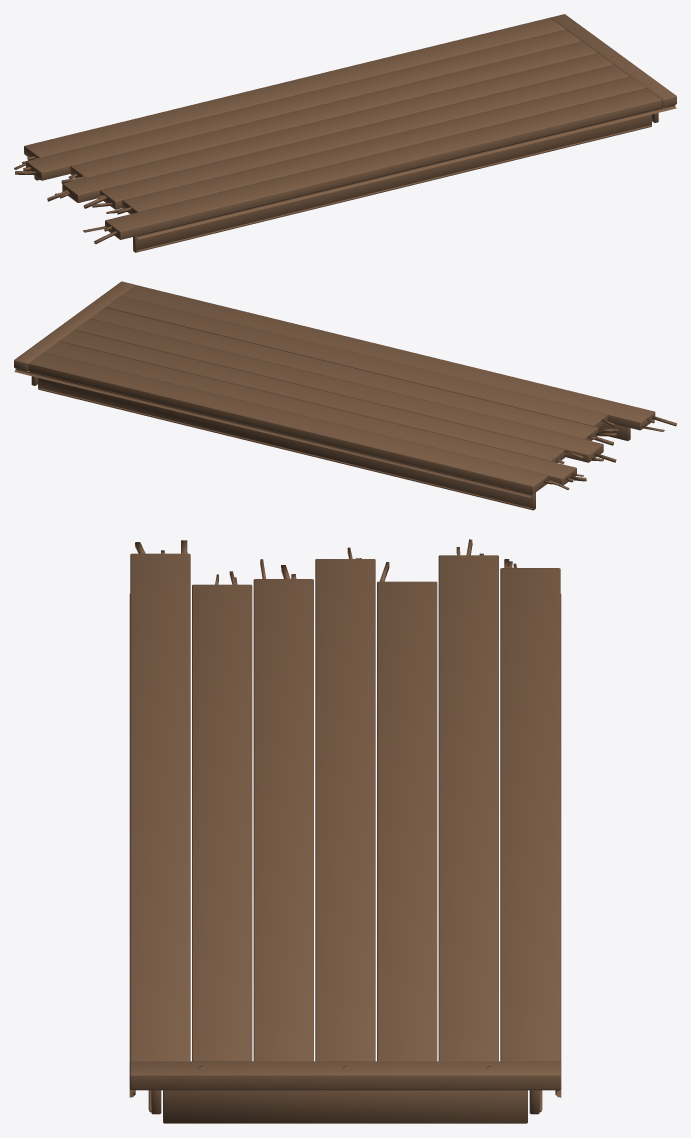
Rendered from dining_top_half.glb.
The picture shows the model from 3 angles, top to bottom: view 1: azimuth 30°, elevation 25°; view 2: azimuth 150°, elevation 25°; view 3: azimuth 270°, elevation 25°; orthographic projection. The views are drawn at different scales.
Visible parts, largest first — view 1: dining_top_half; view 2: dining_top_half; view 3: dining_top_half.
Part boxes in pixels (left/top/right/bottom): dining_top_half: left=14, top=14, right=676, bottom=252; dining_top_half: left=14, top=281, right=676, bottom=510; dining_top_half: left=129, top=539, right=561, bottom=1123.
Bounding box in the file's own units: 3.87 × 0.1961 × 1.3.
